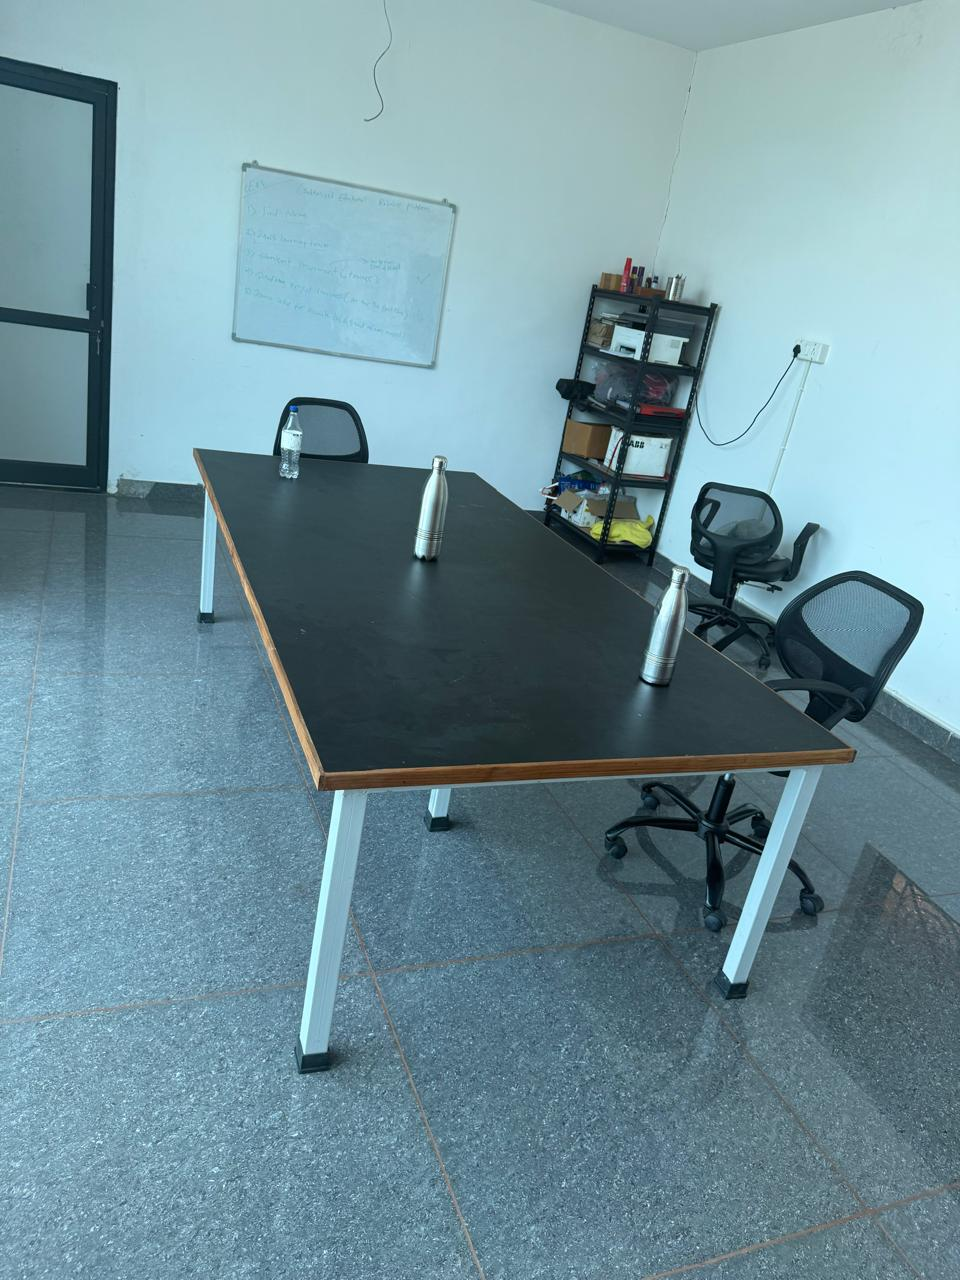bottle_on_table: (641, 546, 698, 708), (395, 438, 457, 584), (275, 385, 310, 518)
